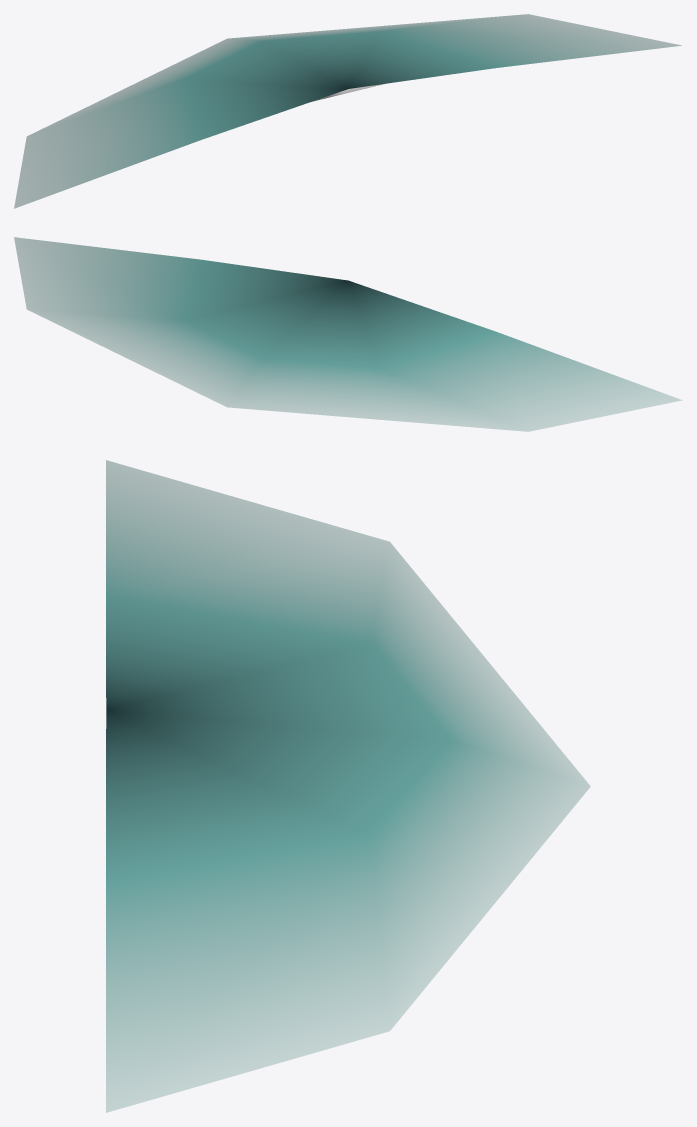
Rendered from Forest_Bg.fbx.
The picture shows the model from 3 angles, top to bottom: view 1: azimuth 30°, elevation 25°; view 2: azimuth 150°, elevation 25°; view 3: azimuth 270°, elevation 25°; orthographic projection. The views are drawn at different scales.
Parts seen in each view (by area): view 1: Bg_01_A01; view 2: Bg_01_A01; view 3: Bg_01_A01.
Boxes of the visible parts, <box> form: Bg_01_A01: <box>14,14,681,208</box>; Bg_01_A01: <box>14,237,682,431</box>; Bg_01_A01: <box>106,460,590,1112</box>.
Size of the model in its own units: 13623 by 743 by 4275.
